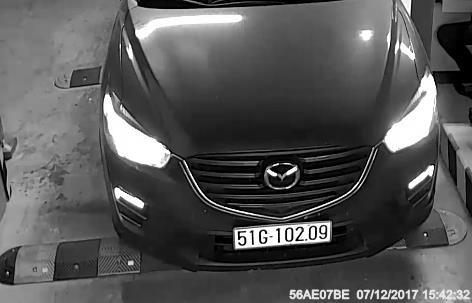License-plate: (225, 208, 342, 255)
